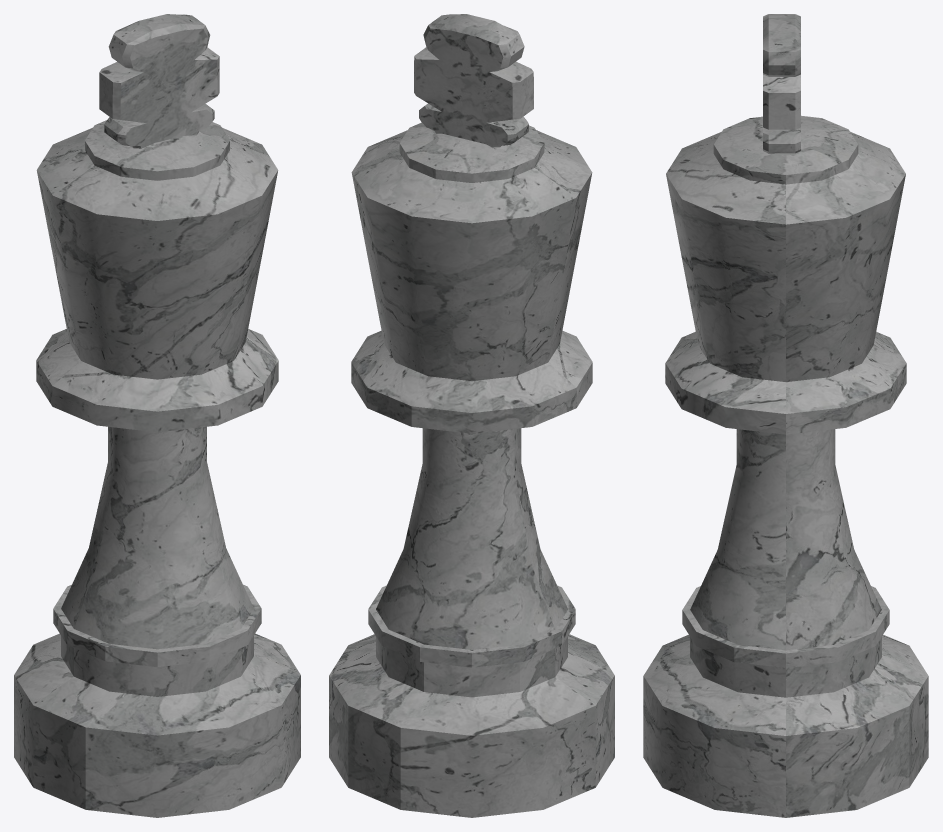
The model's file is king.glb.
The picture shows the model from 3 angles, left to right: view 1: azimuth 30°, elevation 25°; view 2: azimuth 150°, elevation 25°; view 3: azimuth 270°, elevation 25°; orthographic projection.
Parts seen in each view (by area): view 1: King; view 2: King; view 3: King.
Boxes of the visible parts, left/top/right/bottom form: King: left=14, top=14, right=300, bottom=817; King: left=329, top=14, right=614, bottom=817; King: left=643, top=14, right=928, bottom=817.
Size of the model in its own units: 1.31 by 3.72 by 1.31.
1 material, 1 textured.
